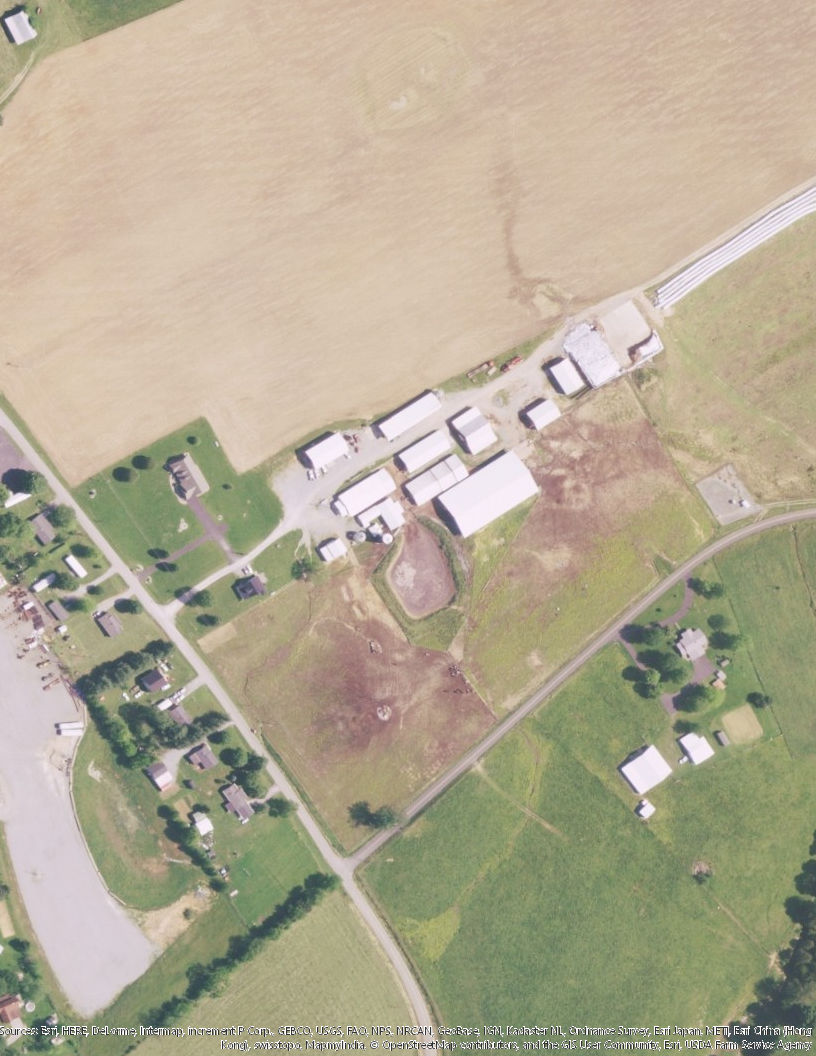cafo: (432, 446, 545, 538), (371, 387, 450, 443), (328, 466, 400, 520), (402, 450, 471, 506), (393, 426, 458, 472), (616, 743, 669, 797), (355, 499, 405, 541), (455, 402, 495, 453), (308, 428, 356, 470), (549, 357, 584, 397), (521, 401, 561, 433)
